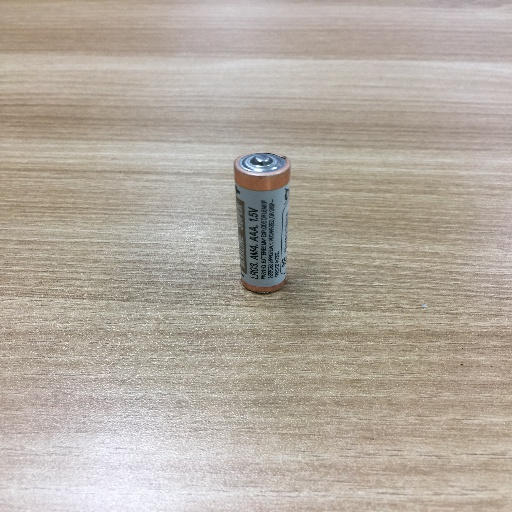Battery_0: (230, 143, 303, 308)
